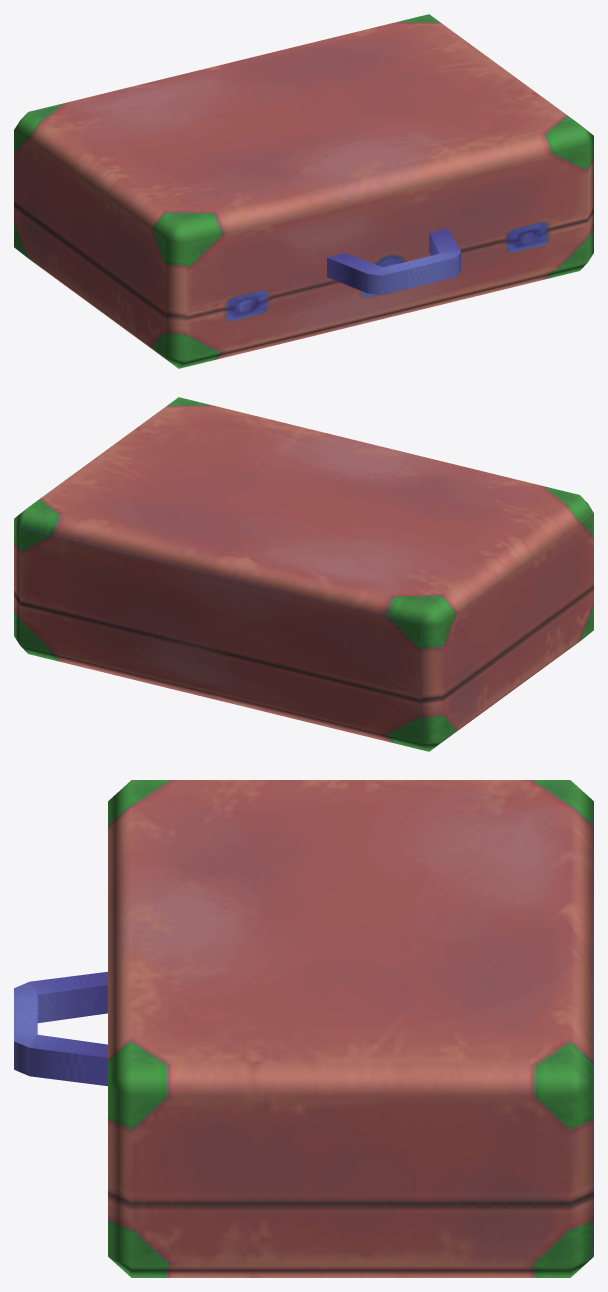
The model's file is luggage_briefcase_01.glb.
The picture shows the model from 3 angles, top to bottom: view 1: azimuth 30°, elevation 25°; view 2: azimuth 150°, elevation 25°; view 3: azimuth 270°, elevation 25°; orthographic projection. The views are drawn at different scales.
Visible parts, largest first — view 1: manor.luggage_briefcase_01-Mesh[0]; view 2: manor.luggage_briefcase_01-Mesh[0]; view 3: manor.luggage_briefcase_01-Mesh[0].
Boxes of the visible parts, x1,y1,x2,y2 form: manor.luggage_briefcase_01-Mesh[0]: (14, 14, 593, 368); manor.luggage_briefcase_01-Mesh[0]: (14, 397, 593, 751); manor.luggage_briefcase_01-Mesh[0]: (14, 780, 593, 1277).
Bounding box in the file's own units: 0.92 × 0.3 × 0.74.
Materials: 1 (1 with a texture image).
